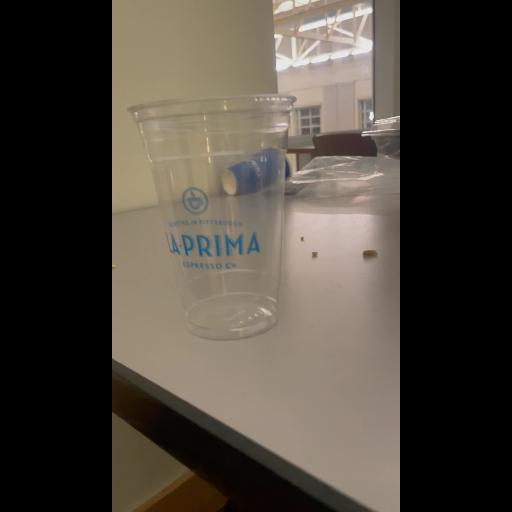lp_plastic_cup: (127, 96, 295, 334)
